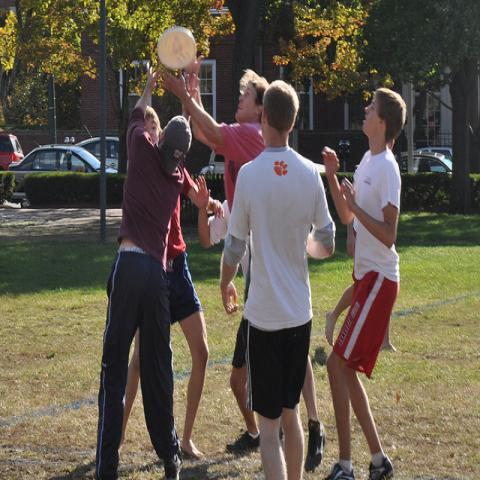car: (8, 143, 120, 208), (74, 136, 120, 170), (401, 150, 452, 175), (0, 133, 25, 170), (208, 149, 224, 174), (418, 146, 453, 156), (199, 166, 209, 174), (64, 137, 70, 144)
